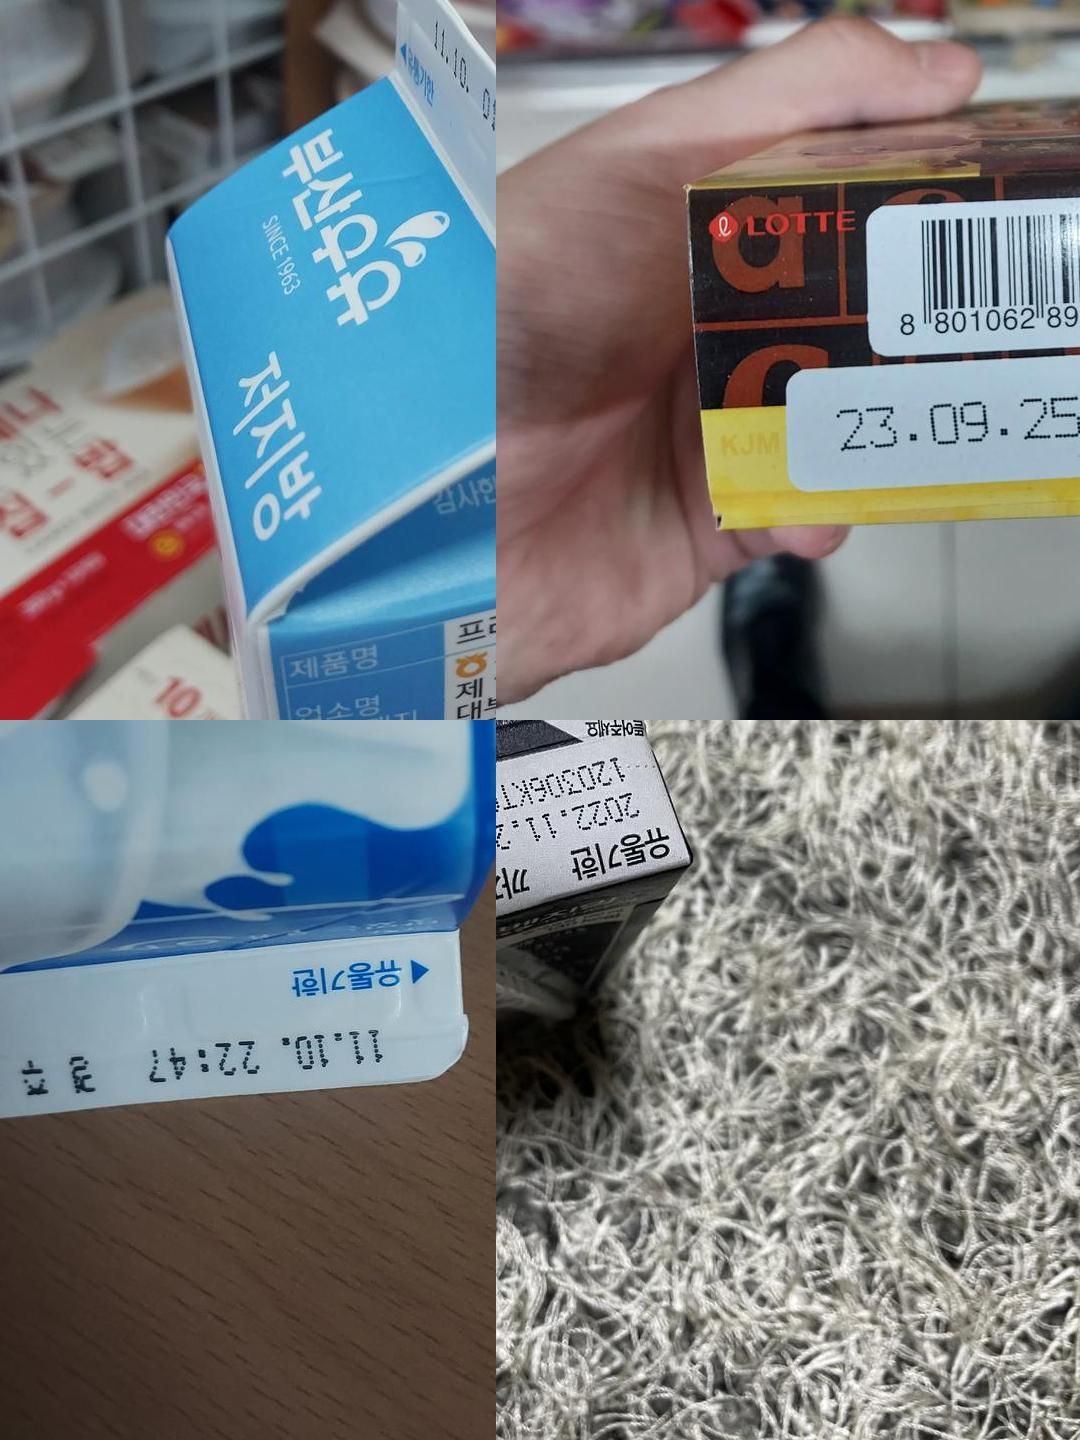milk: (0, 927, 471, 1113), (381, 0, 496, 395)
snack food: (792, 366, 1080, 472), (496, 760, 681, 889)
